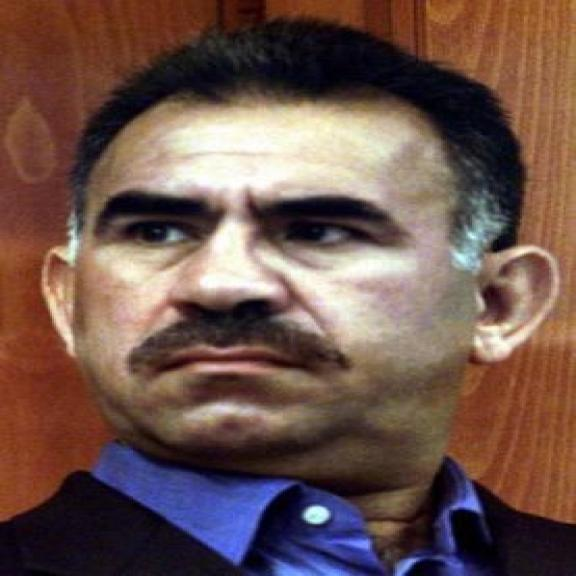face: (43, 92, 572, 462)
